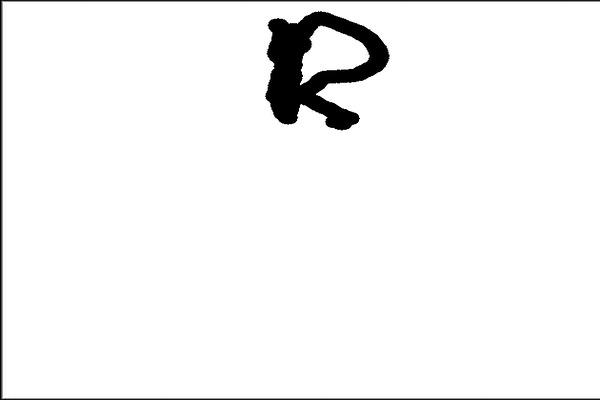R: (253, 11, 392, 135)
